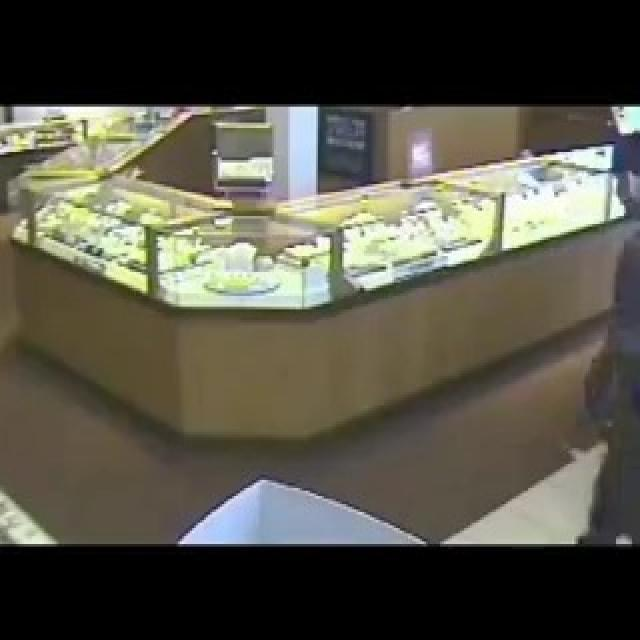Normal: (574, 135, 640, 552)
